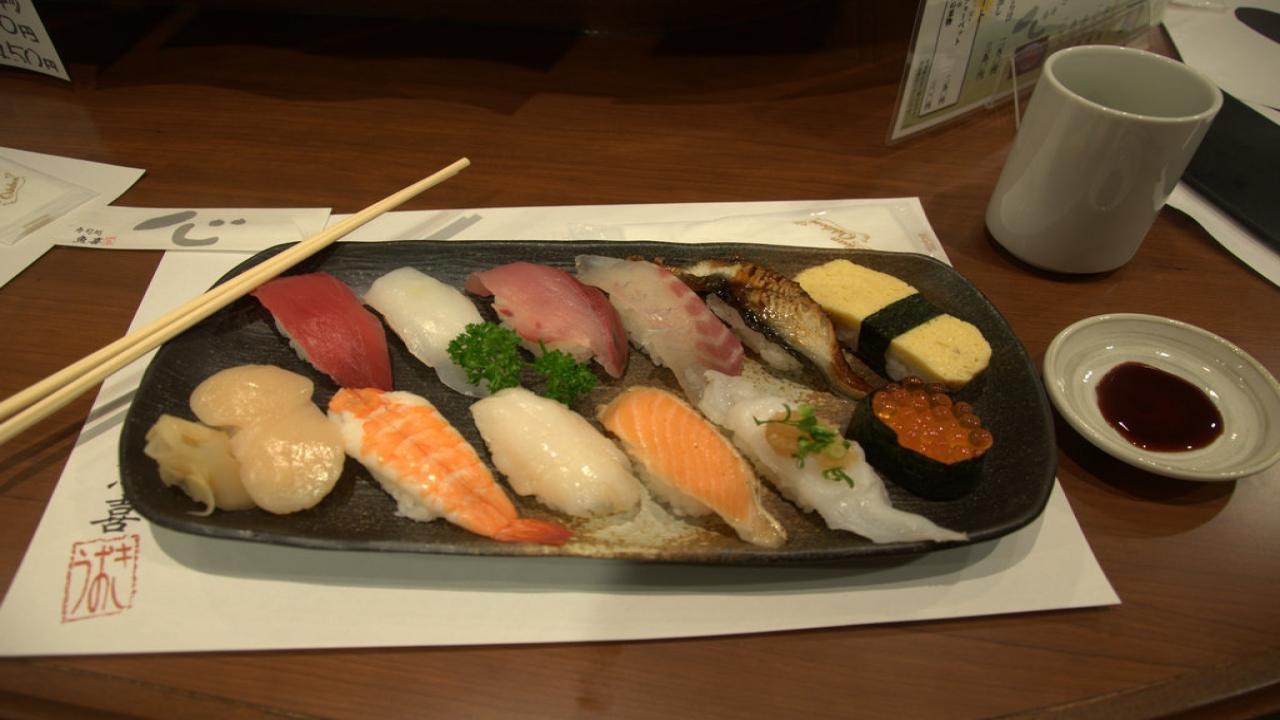chopstick: (0, 159, 471, 425)
